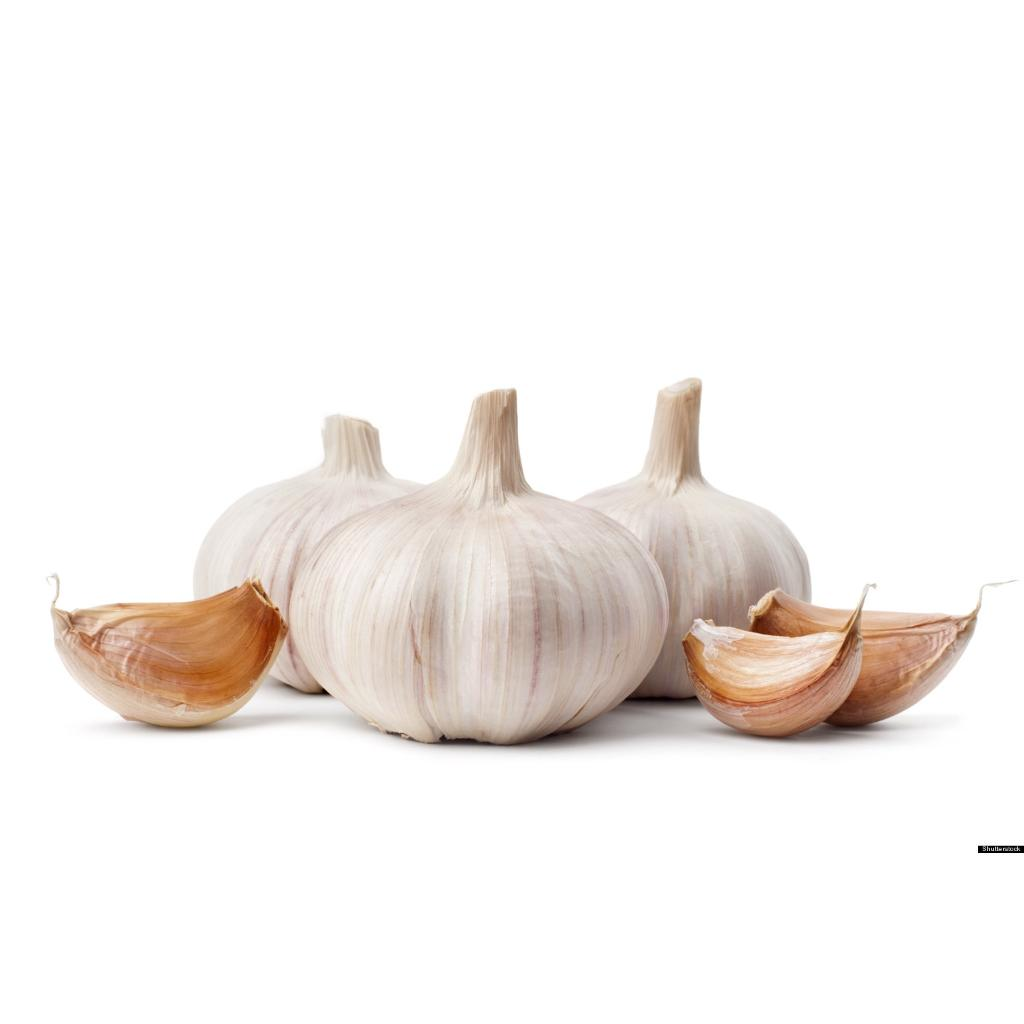garlic: (289, 389, 667, 744), (577, 378, 809, 698), (193, 414, 421, 620), (50, 578, 287, 726), (682, 584, 873, 736), (825, 607, 977, 725), (748, 588, 850, 636)
